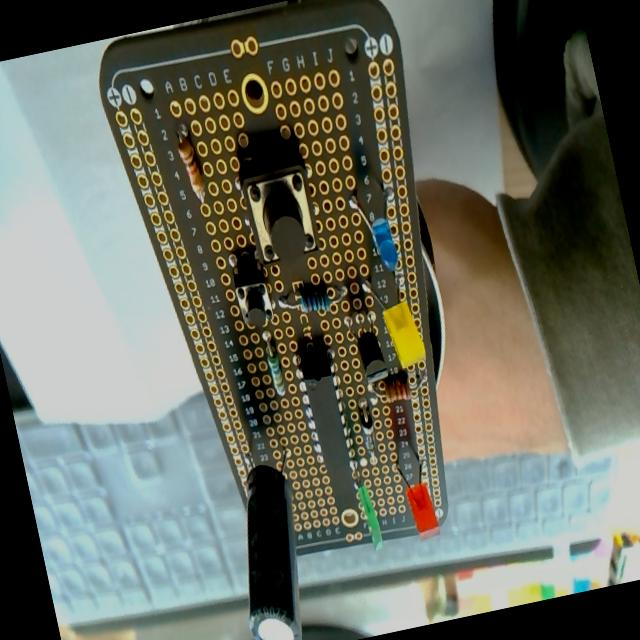Electrolytic capacitor: (214, 429, 330, 640)
IC: (296, 348, 356, 474)
diode: (356, 401, 380, 461)
led: (365, 264, 428, 373), (346, 185, 402, 277), (394, 452, 442, 542), (356, 480, 385, 552)
resistor: (175, 132, 208, 204), (260, 327, 287, 397), (297, 282, 333, 316), (382, 376, 412, 404)
switch: (236, 146, 323, 270), (227, 251, 275, 332)
transistor: (346, 304, 392, 393)
